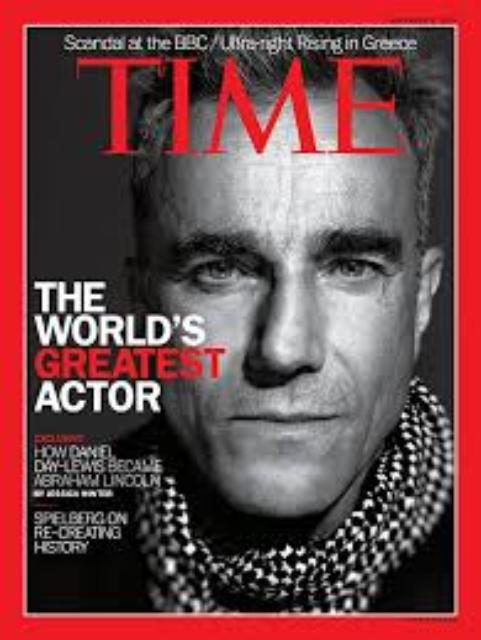cardboard paper: (22, 25, 459, 618)
